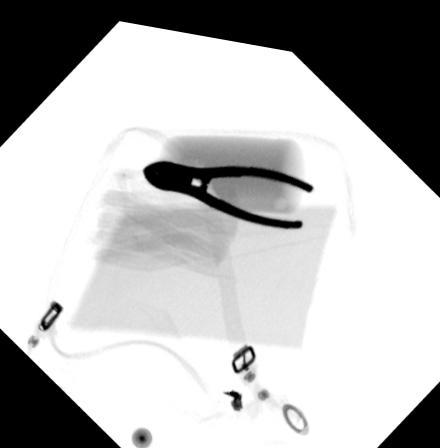Pliers: (142, 152, 315, 218)
